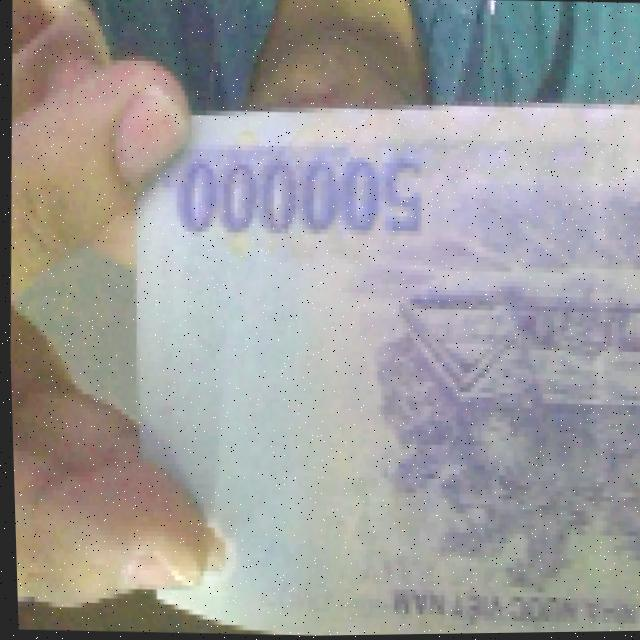500 000 VND: (110, 83, 640, 639)
